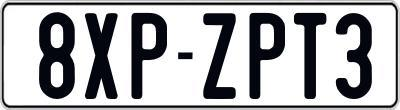3: (336, 11, 375, 102)
8: (36, 10, 72, 97)
P: (249, 12, 290, 99), (131, 11, 168, 99)
T: (293, 12, 330, 102)
X: (82, 12, 118, 103)
Z: (200, 10, 238, 97)
